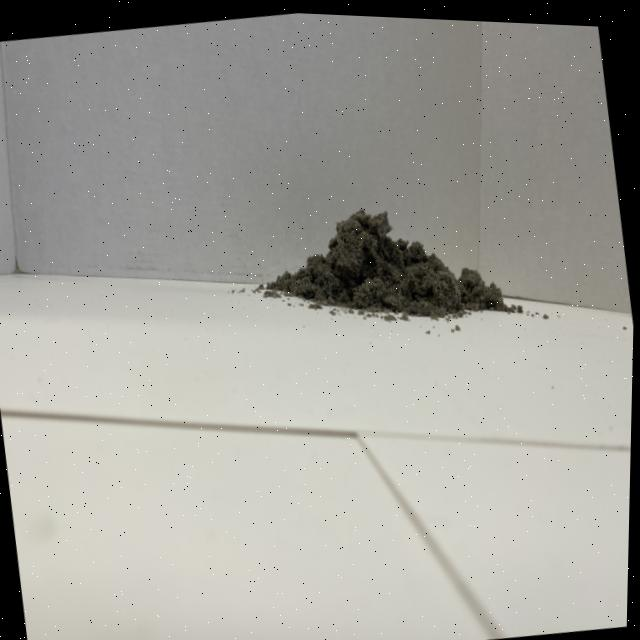sand: (282, 182, 501, 346)
